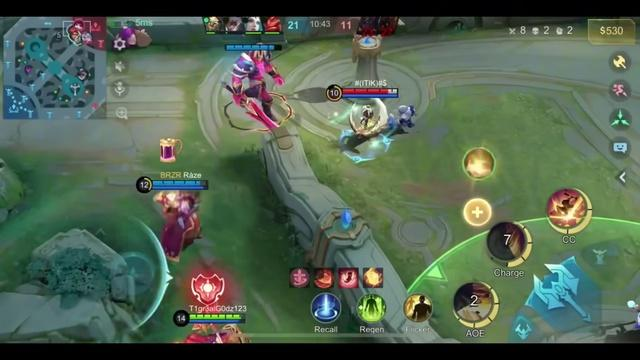Adc_Aliado: (66, 23, 76, 36)
Bane: (155, 191, 197, 257)
Chang-e: (341, 99, 397, 148)
Esbirro_Enemigo: (396, 105, 414, 129)
Exp_Aliado: (70, 33, 81, 42)
Exp_Enemigo: (82, 34, 94, 45)
HP_Aliado: (152, 181, 207, 186)
HP_Enemigo: (339, 87, 399, 94)
HP_Heroe_Principal: (190, 315, 245, 320)
Hechizo_Batalla: (403, 293, 431, 322)
Jungla_Aliado: (78, 68, 87, 81)
Lord_Vexana: (224, 51, 283, 129)
Mana: (341, 93, 402, 99), (152, 185, 207, 190), (188, 321, 245, 324)
Mid_Enemigo: (72, 20, 84, 31)
Minimapa: (0, 20, 103, 121)
Roamer_Aliado: (75, 35, 82, 46)
Tigreal: (178, 321, 242, 342)
Torre_Enemiga: (352, 34, 386, 86)
skill3: (547, 188, 591, 231)
